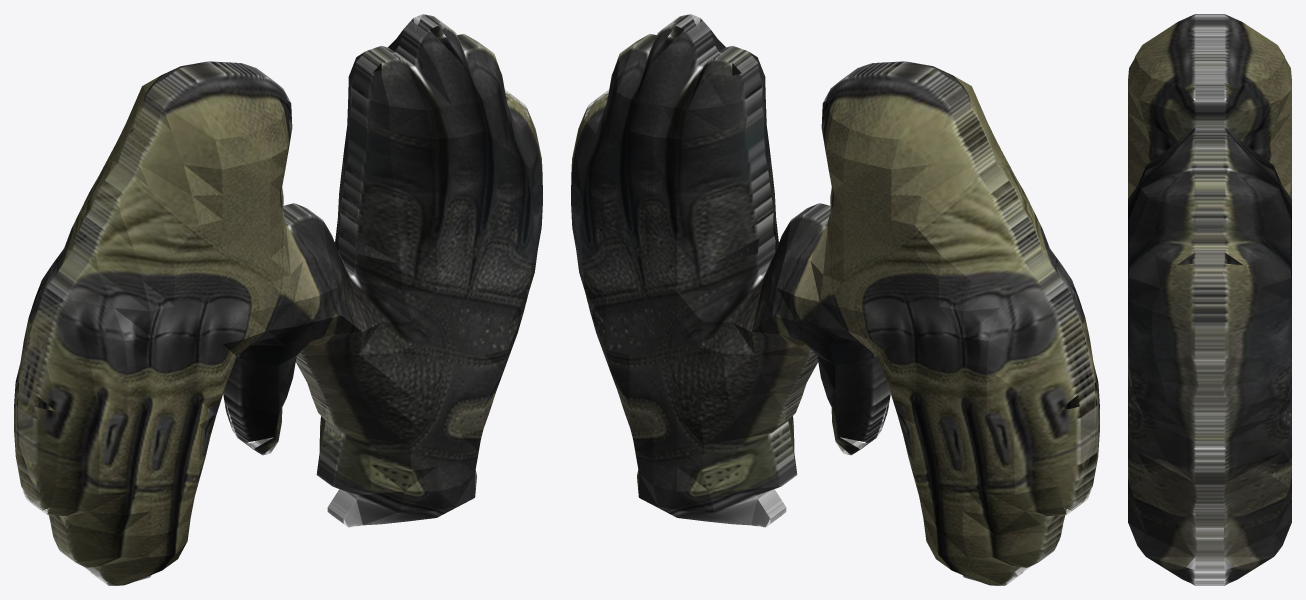
Rendered from tcx-vector-sport-glove-098.glb.
3 views of the same model, side by side, from view 1: azimuth 30°, elevation 25°; view 2: azimuth 150°, elevation 25°; view 3: azimuth 270°, elevation 25° (orthographic). The views are drawn at different scales.
Visible parts, largest first — view 1: world; view 2: world; view 3: world.
Boxes of the visible parts, x1,y1,x2,y2 form: world: (14,14,542,585); world: (571,14,1099,585); world: (1128,14,1291,585).
Bounding box in the file's own units: 1 × 0.9283 × 0.3.
1 material, 1 textured.
